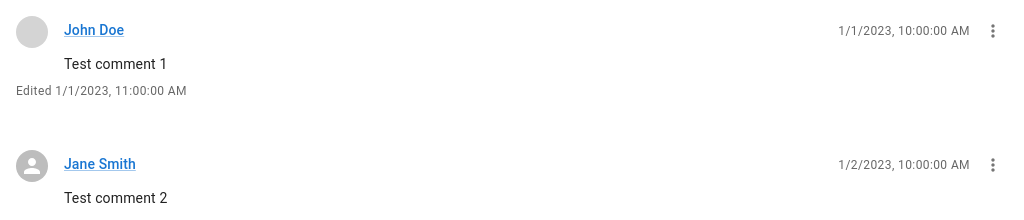
Test case: CommentList Component › handles menu click
The width and height of the screenshot is (1024, 220).
Find and click the menu button for the first comment
Click the button with test id "MoreVertIcon" at (993, 31), box [978,16,1008,46]
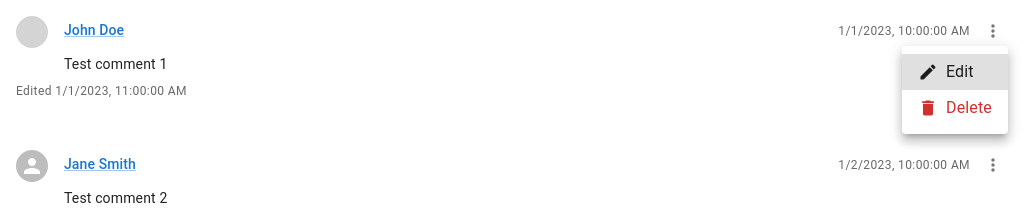
Expected: the number of menu items is 2, [902,54,1008,90]; [918,98,992,118]
Expected: the menu item "Edit" is shown, [902,54,1008,90]
Expected: the menu item "Delete" is shown, [918,98,992,118]
